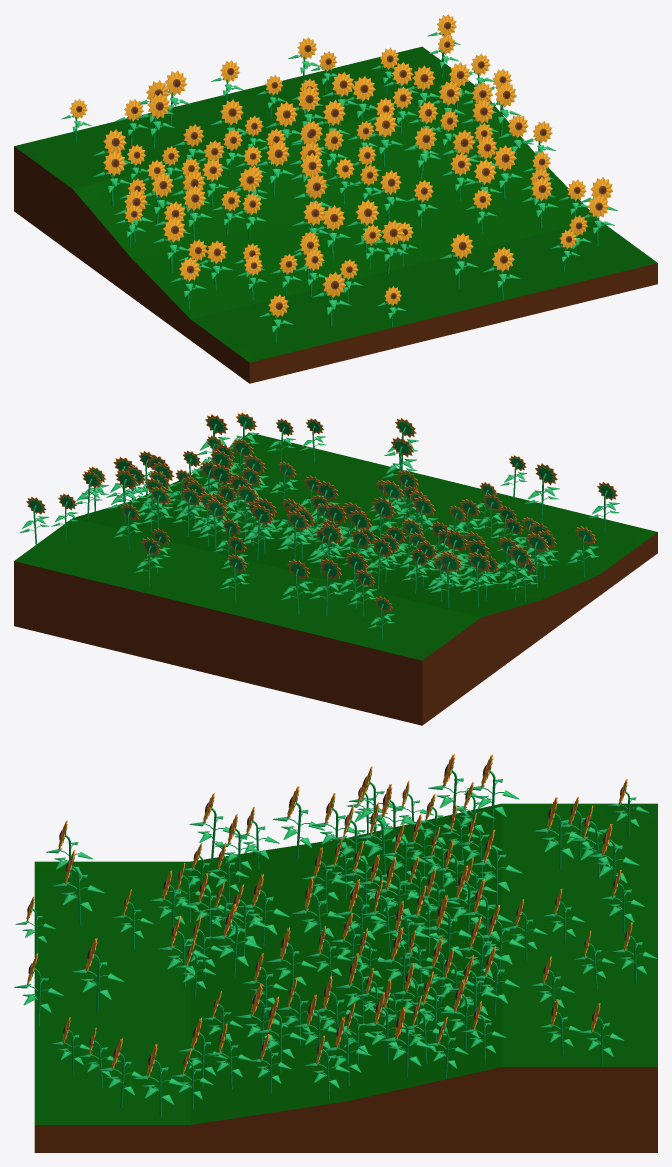
Rendered from sunflower_field.glb.
3 views of the same model, one above another, from view 1: azimuth 30°, elevation 25°; view 2: azimuth 150°, elevation 25°; view 3: azimuth 270°, elevation 25° (orthographic). The views are drawn at different scales.
Visible parts, largest first — view 1: Solo.001, Solo, Cube.003, Cube.026, Cube.040, Cube.012, Cube.042, Cube.096, Cube.002, Cube.059, Cube.094, Cube.090 (+15 smaller); view 2: Solo.001, Solo, Cube.003, Cube.047, Cube.042, Cube.029, Cube.015, Cube.020, Cube.068, Cube.012, Cube.064, Cube.060 (+17 smaller); view 3: Solo.001, Solo, Cube.012, Cube.026, Cube.084, Cube.072, Cube.096, Cube.006, Cube.047, Cube.003, Cube.064, Cube.106 (+29 smaller).
Boxes of the visible parts, x1,y1,x2,y2 form: Solo.001: (14, 46, 657, 362); Solo: (14, 146, 657, 383); Cube.003: (312, 271, 351, 326); Cube.026: (136, 93, 174, 148); Cube.040: (256, 140, 294, 195); Cube.012: (440, 233, 478, 288); Cube.042: (93, 150, 129, 206); Cube.096: (153, 217, 188, 272); Cube.002: (371, 220, 408, 273); Cube.059: (368, 111, 402, 167); Cube.094: (316, 205, 350, 259); Cube.090: (493, 145, 522, 199); Solo.001: (14, 433, 657, 660); Solo: (14, 532, 657, 725); Cube.003: (524, 463, 559, 520); Cube.047: (430, 552, 464, 607); Cube.042: (459, 552, 493, 607); Cube.029: (243, 504, 275, 560); Cube.015: (309, 558, 343, 615); Cube.020: (280, 559, 312, 614); Cube.068: (277, 510, 311, 560); Cube.012: (383, 437, 417, 492); Cube.064: (310, 523, 345, 579); Cube.060: (498, 545, 531, 600); Solo.001: (34, 803, 657, 1124); Solo: (34, 1067, 657, 1152); Cube.012: (72, 938, 124, 1011); Cube.026: (533, 797, 582, 870); Cube.084: (209, 903, 261, 979); Cube.072: (380, 1007, 432, 1078); Cube.096: (273, 786, 324, 859); Cube.006: (133, 1044, 185, 1117); Cube.047: (467, 754, 519, 829); Cube.003: (52, 850, 104, 925); Cube.064: (473, 829, 522, 904); Cube.106: (238, 874, 289, 945).
Bounding box in the file's own units: 6201 × 1659 × 6100.
Materials: 1 (1 with a texture image).
